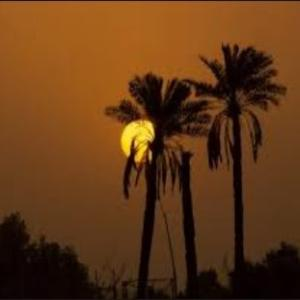palm tree: (103, 70, 213, 298), (182, 40, 286, 275)
